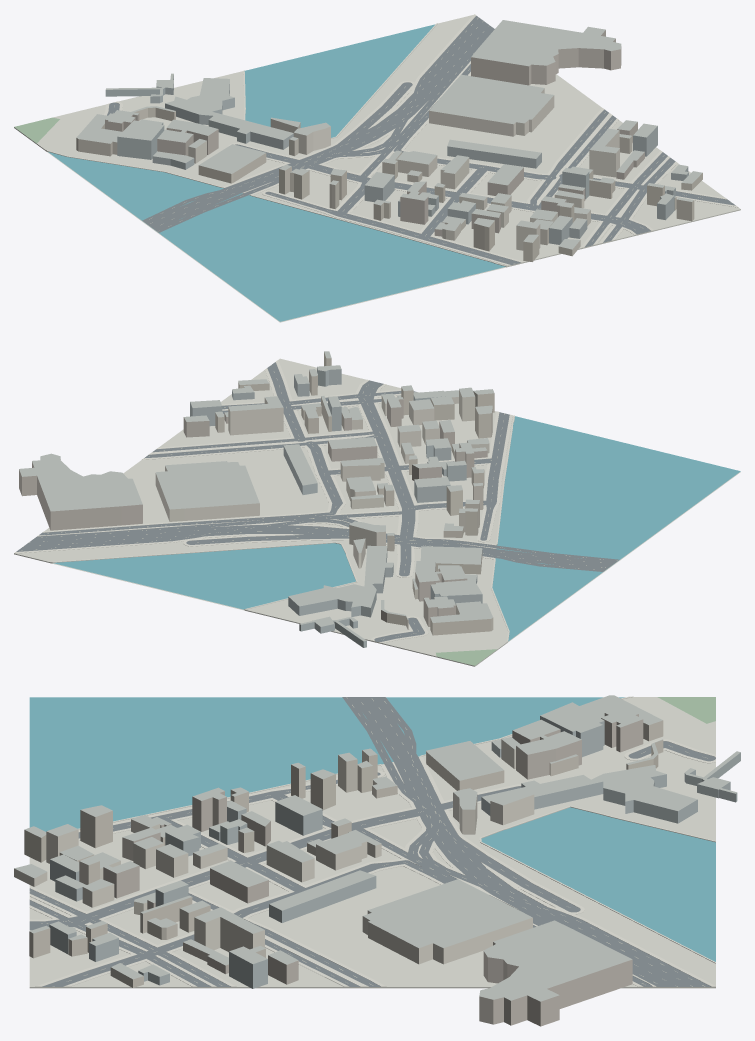
The picture shows the model from 3 angles, top to bottom: view 1: azimuth 30°, elevation 25°; view 2: azimuth 150°, elevation 25°; view 3: azimuth 270°, elevation 25°; orthographic projection. The views are drawn at different scales.
Parts seen in each view (by area): view 1: city; view 2: city; view 3: city.
Part boxes in pixels (x1,y1,x2,y2): city: [14, 14, 740, 322]; city: [14, 351, 740, 666]; city: [14, 695, 740, 1026].
Size of the model in its own units: 568 by 26 by 530.
